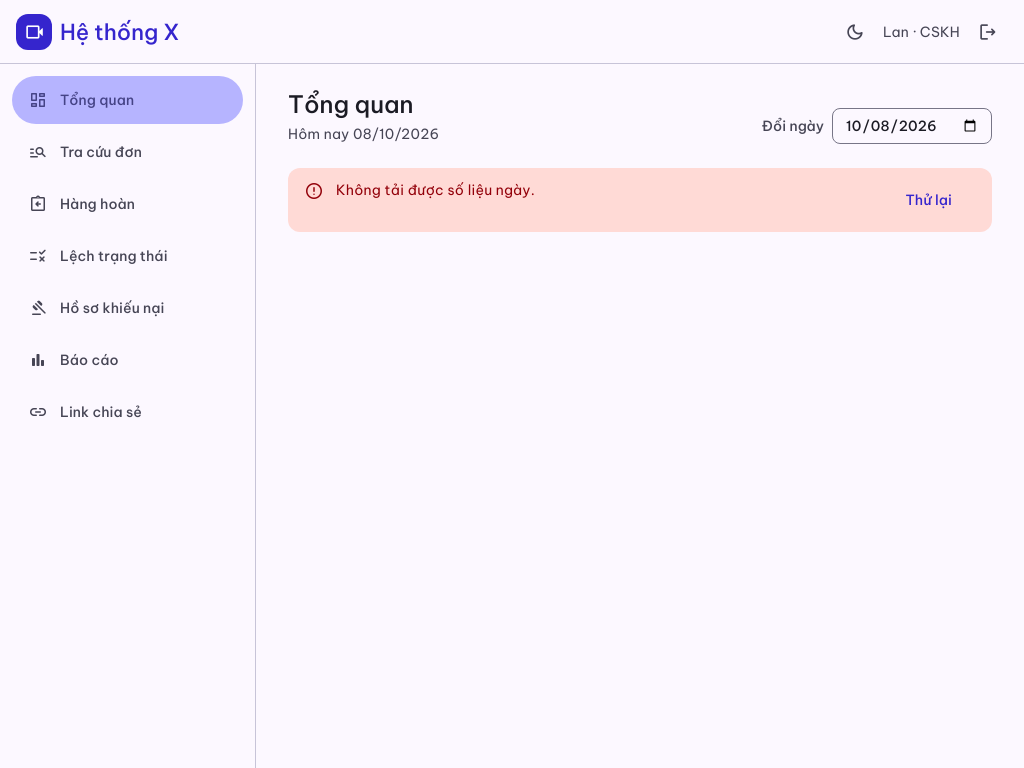
it: API-32 lỗi 5xx → tự thử lại 2 lần (02b §8) → Alert + Thử lại tải lại được
Expected: the text "Không tải được số liệu ngày." is shown, [336, 181, 535, 199]
Click the button "Thử lại": coordinates (929, 200) [882, 180, 976, 220]
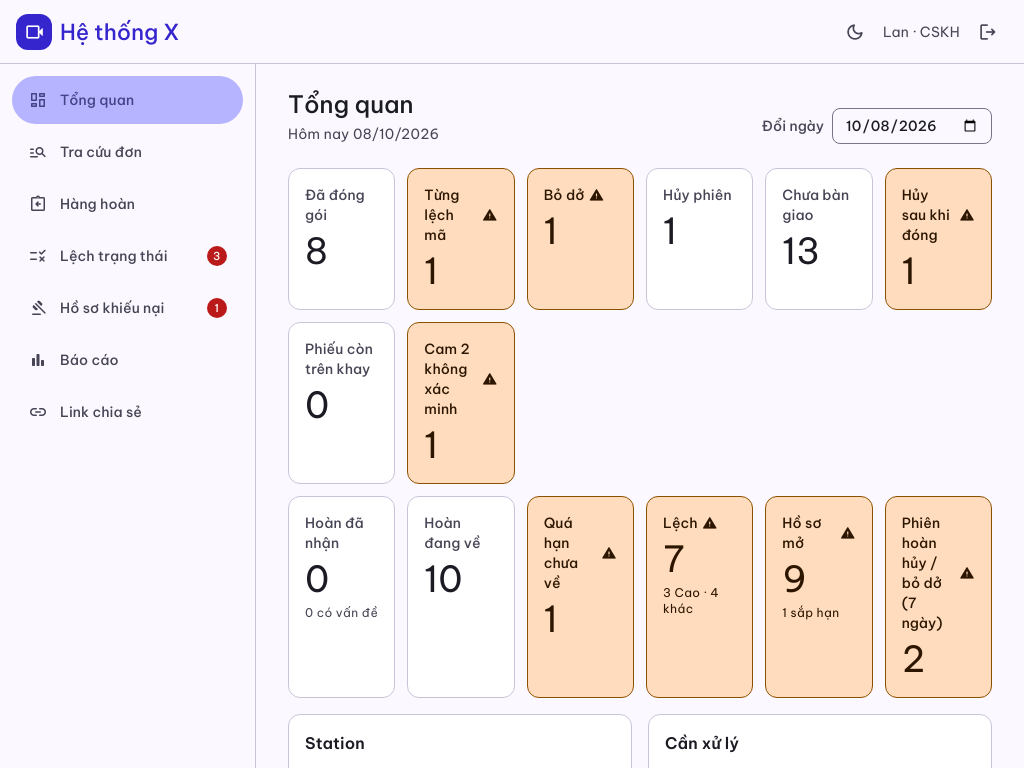
Expected: the link with aria-label "Đã đóng gói: 8." is shown, [288, 168, 395, 310]
